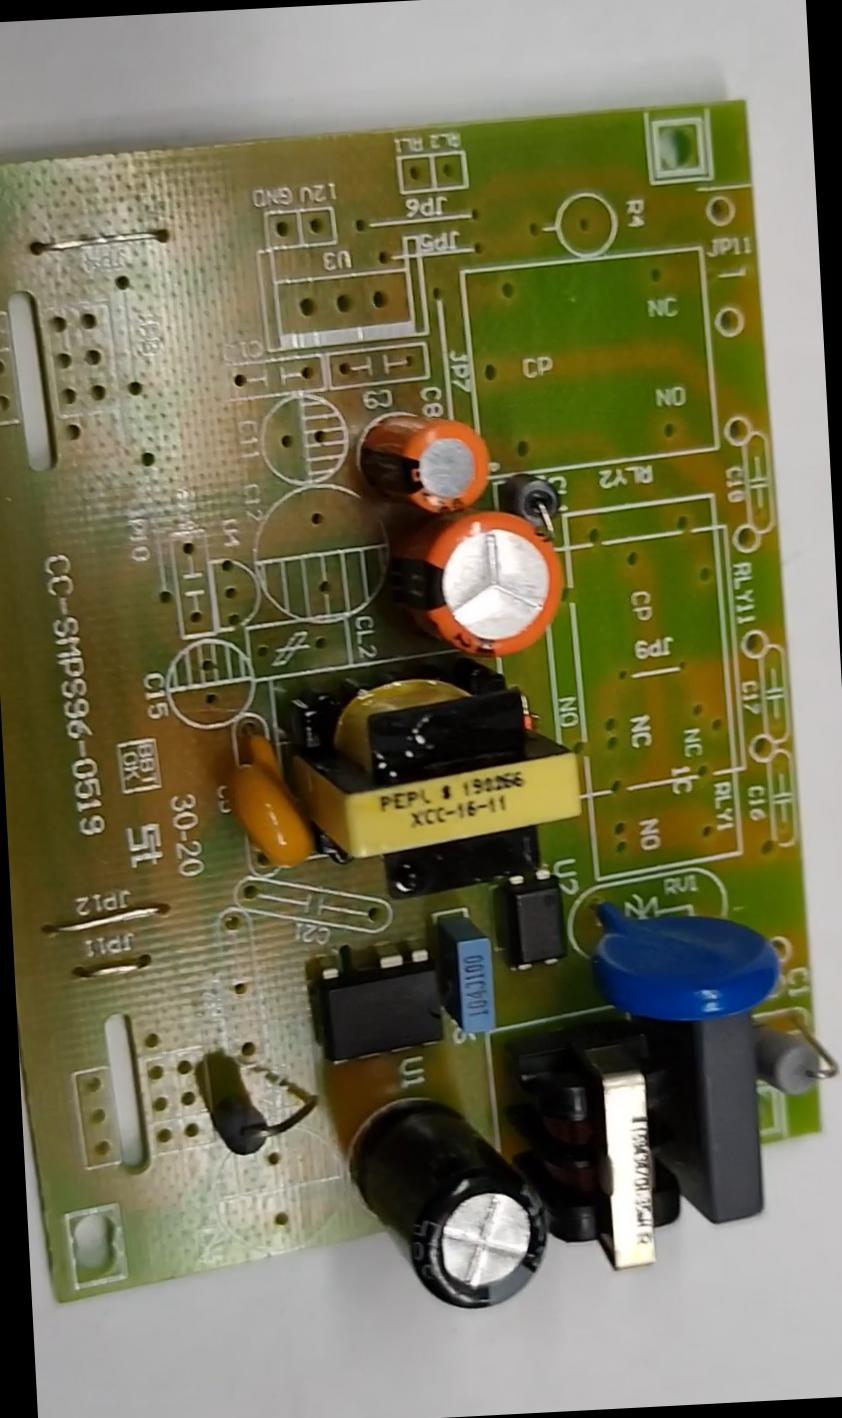Cap1: (406, 508, 568, 655)
Cap2: (361, 403, 486, 516)
Cap3: (354, 1090, 546, 1317)
MOSFET: (318, 950, 441, 1061)
Mov: (586, 898, 781, 1023)
Resistor: (758, 1016, 841, 1093)
Transformer: (292, 666, 586, 885), (531, 1053, 702, 1266)
